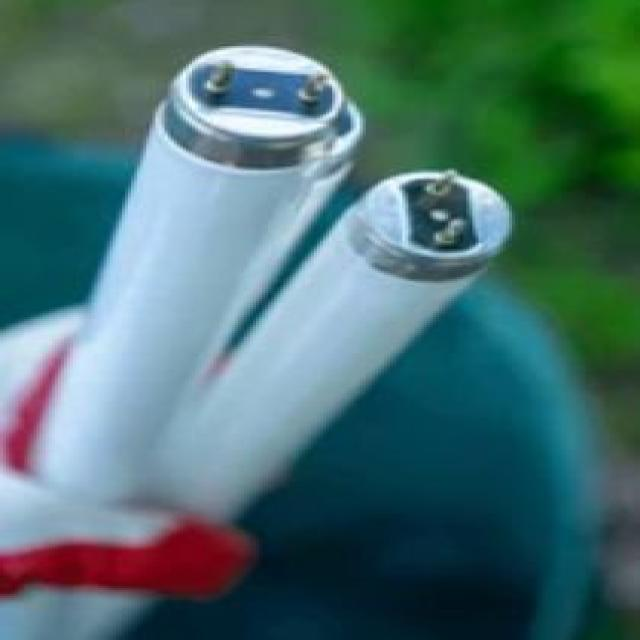electronic: (0, 42, 515, 636), (131, 164, 515, 524)
